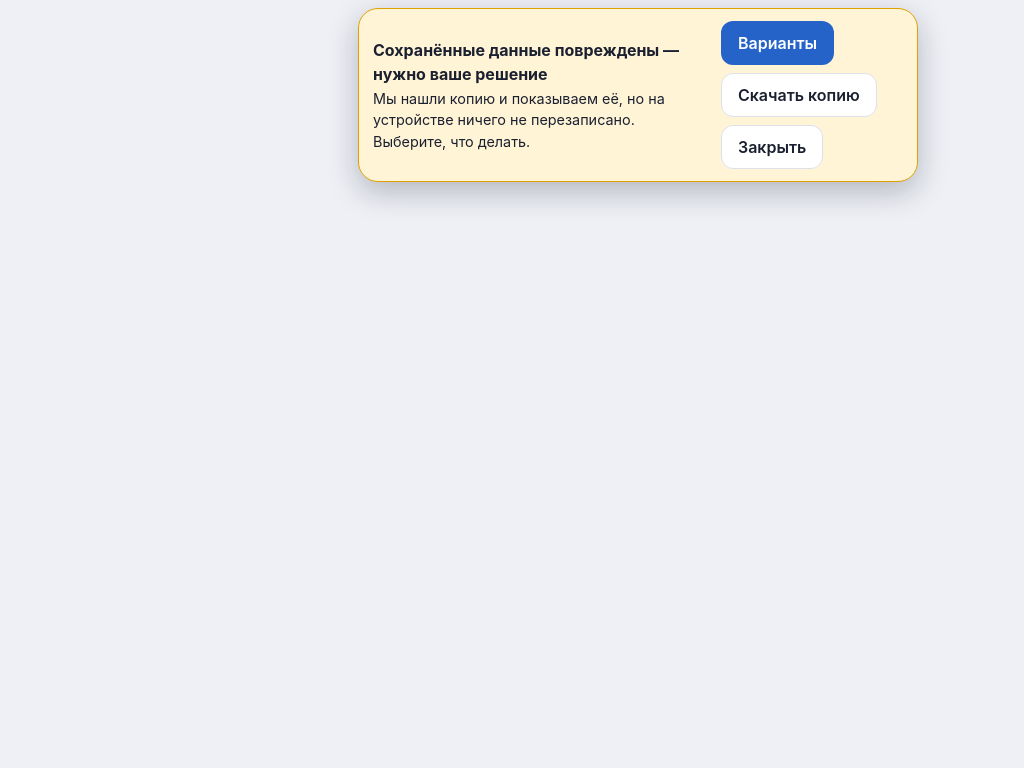
Scenario: recovery screen: an unreadable record with a usable legacy copy (recovery-pending) › CONFIRM: "save the found copy" replaces the record, quarantine keeps the damaged bytes, the notice switches to "recovered"
Click the button "Варианты" at {"x": 778, "y": 43}, box [721,21,834,65]
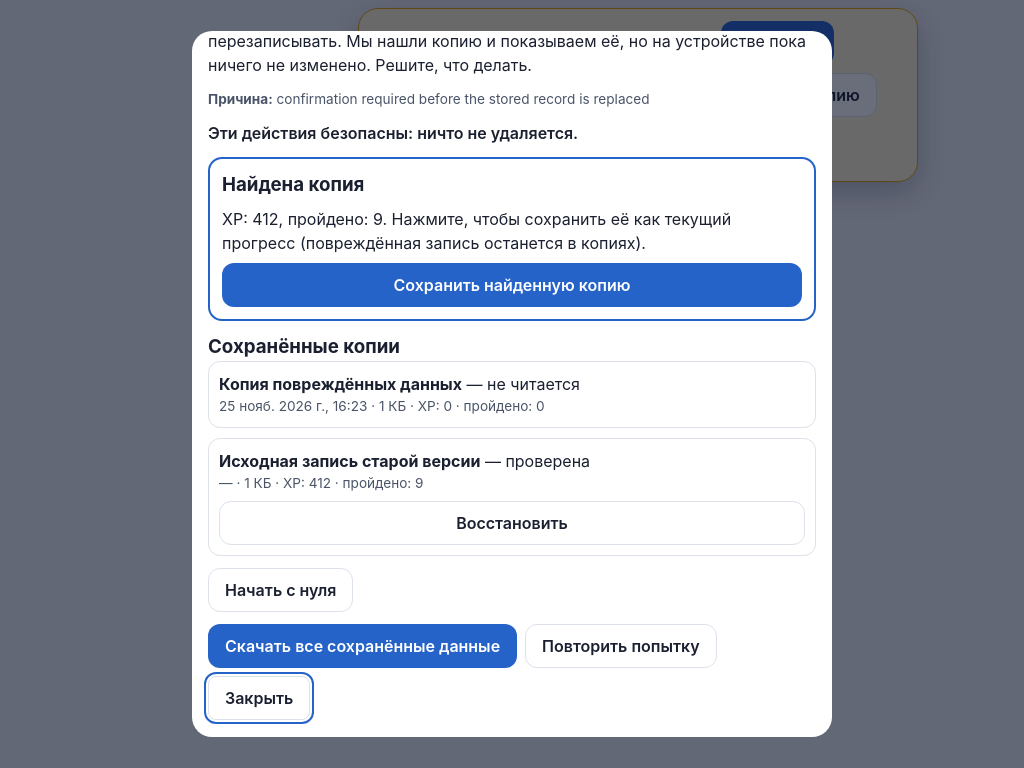
Click the button "Сохранить найденную копию" at {"x": 512, "y": 285}, box [222,263,802,307]
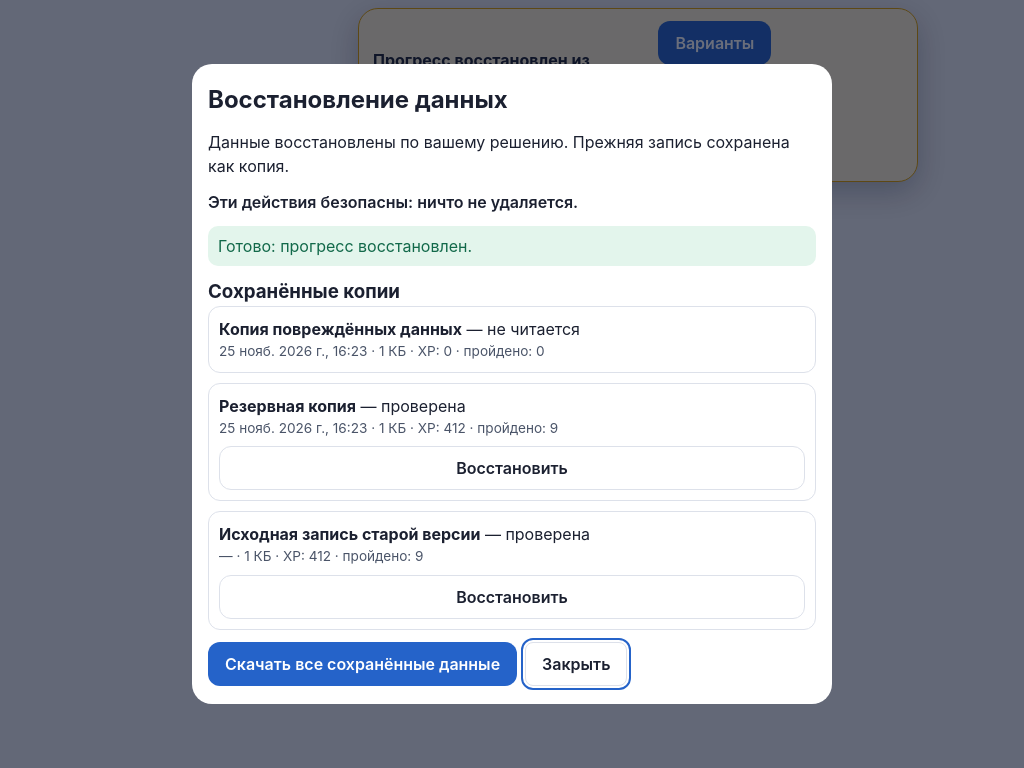
Expected: the text "Готово: прогресс восстановлен." is shown, [208,226,816,266]
